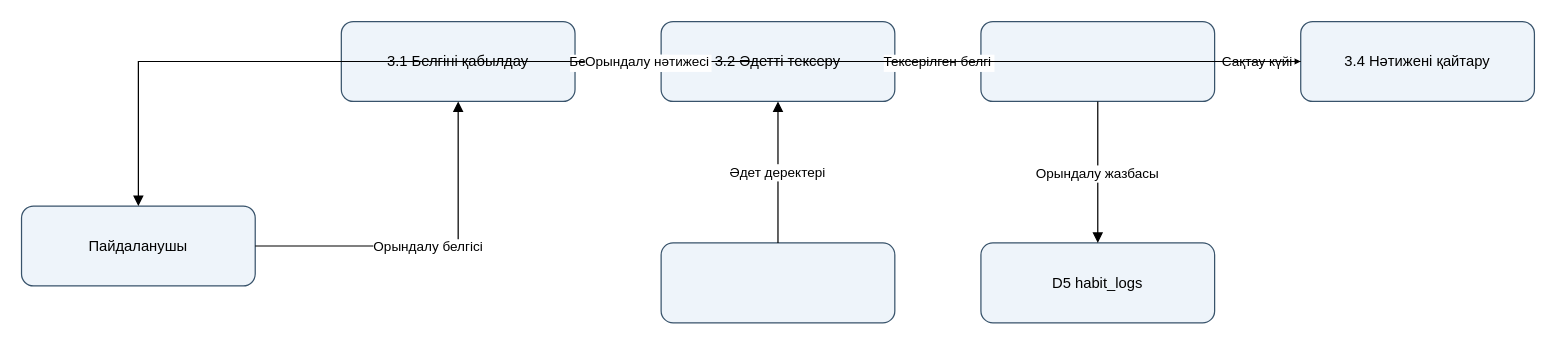
This 1556x344 diagram has some shape labels left out. Each missing label, with the centre of its shape:
"3.3 Жазбаны сақтау" goes at (1097,60).
"D2 habits" goes at (777,282).
